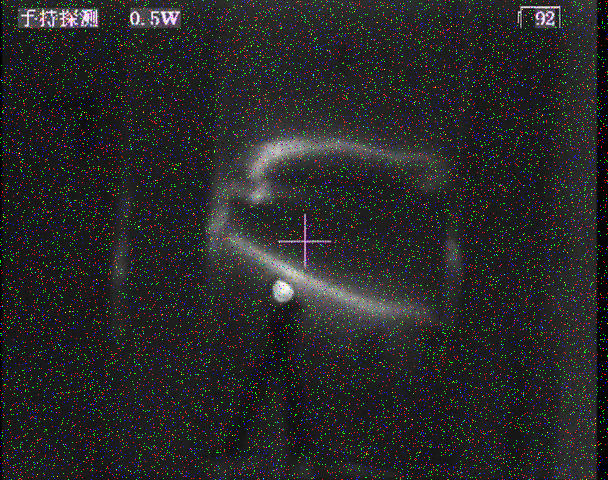my: (269, 277, 298, 305)
